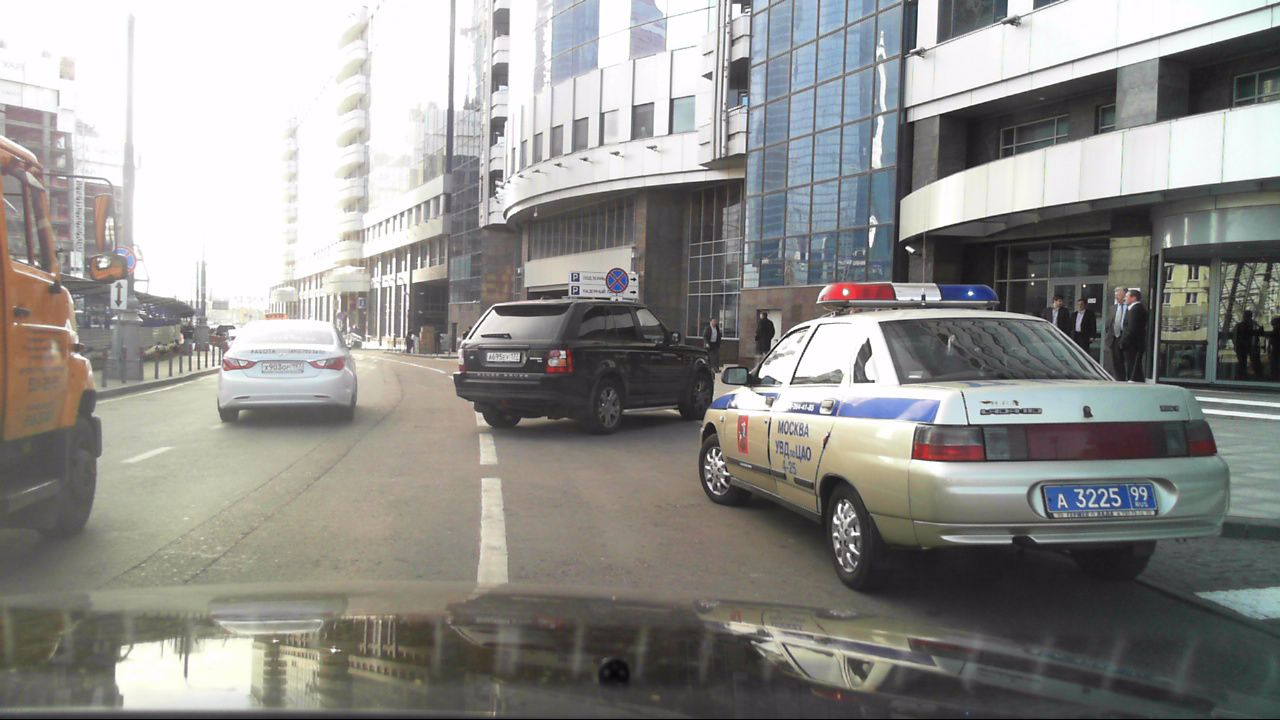No Parking: (605, 265, 631, 295)
